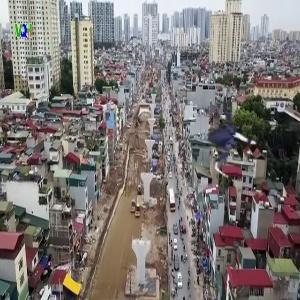drone: (194, 107, 267, 180)
